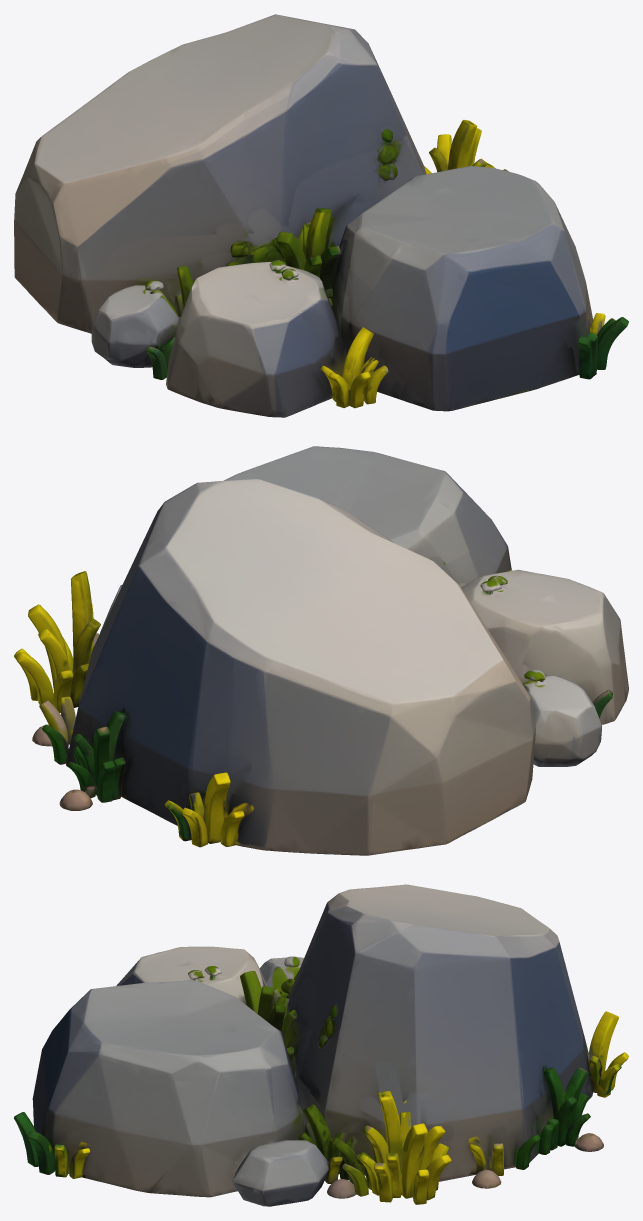
Rendered from rock-cluster-a.glb.
3 views of the same model, one above another, from view 1: azimuth 30°, elevation 25°; view 2: azimuth 150°, elevation 25°; view 3: azimuth 270°, elevation 25° (orthographic). The views are drawn at different scales.
Parts seen in each view (by area): view 1: node_0; view 2: node_0; view 3: node_0.
Part boxes in pixels (x1,y1,x2,y2): node_0: (14,14,628,417); node_0: (14,446,628,855); node_0: (14,884,628,1206).
Size of the model in its own units: 0.8673 by 0.4059 by 1.06.
1 material, 1 textured.
